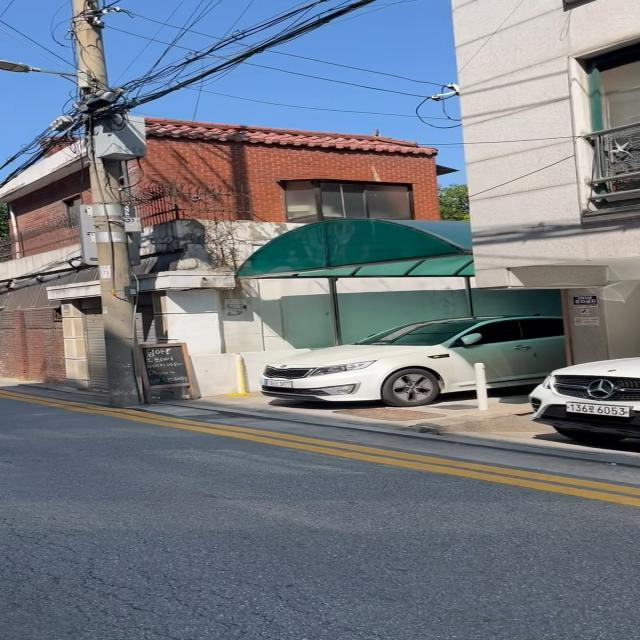building: (0, 115, 472, 399), (449, 0, 638, 369)
car: (259, 313, 565, 407), (527, 356, 639, 443)
